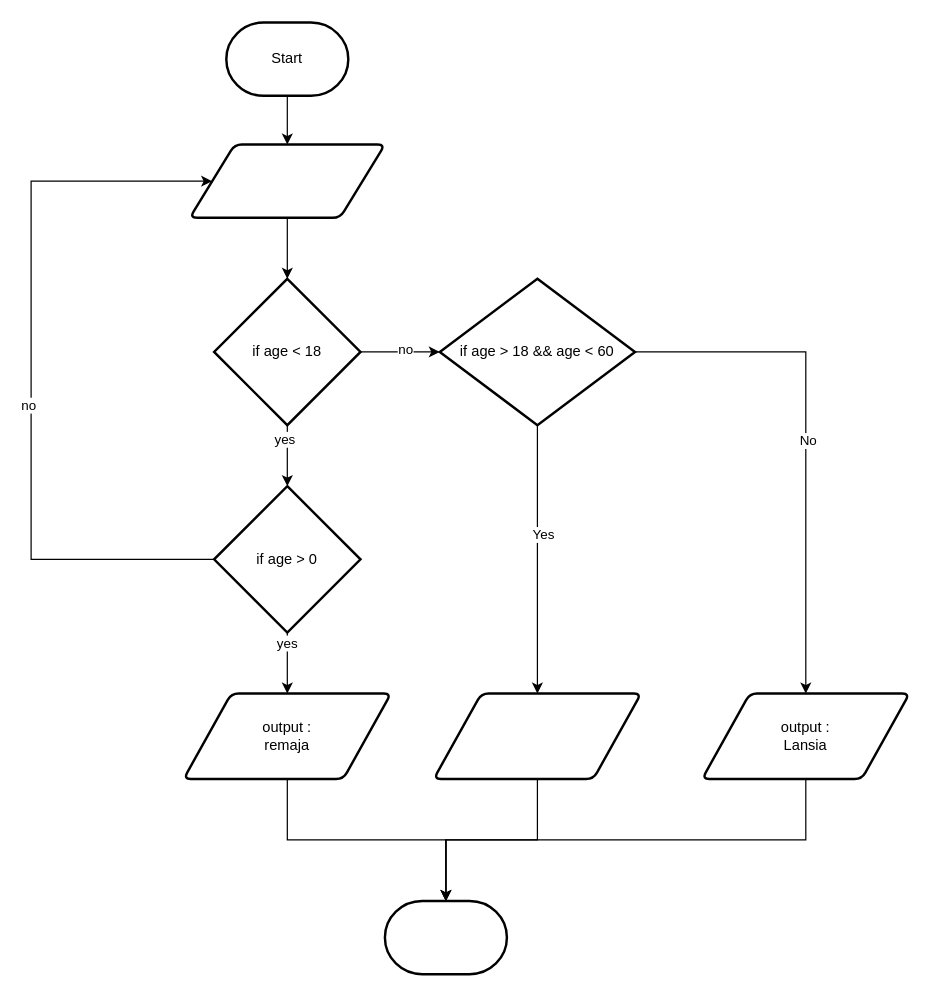
Some shapes in this 932 by 996 pixel diagram are drawn without their labels. Each missing label, with the box of its shape:
End: (383, 899, 508, 975)
Input age: (188, 143, 386, 218)
output : dewasa: (432, 692, 642, 780)
